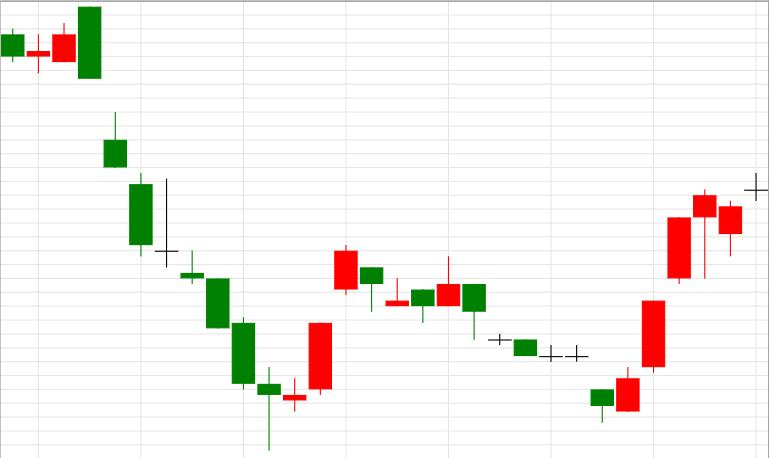three_white_soldiers_rise: (437, 217, 690, 422)
